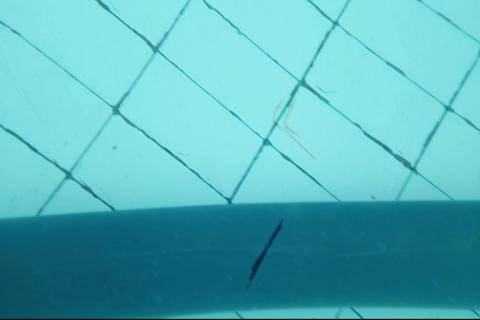keretakan: (244, 216, 286, 291)
